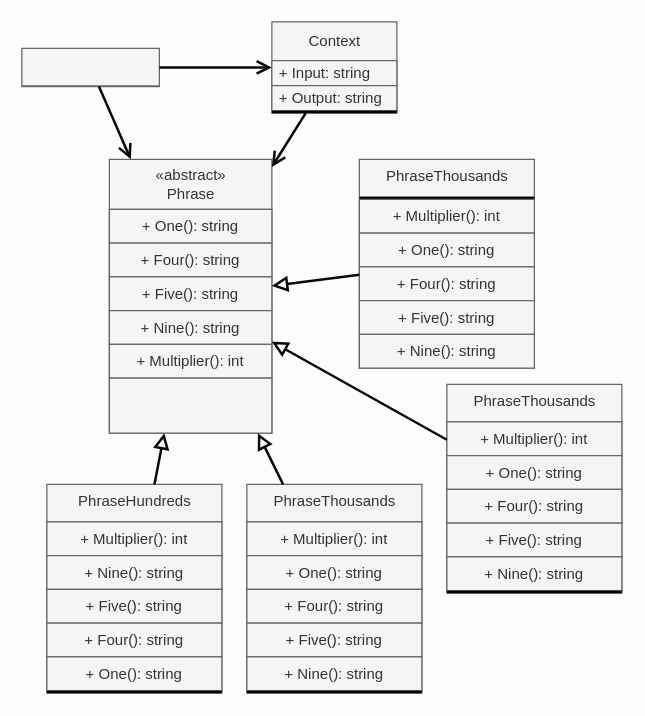
Some shapes in this 645 by 716 pixel diagram are drawn without their labels. The centre of each missing label's shape, as x and y in pixels:
"+ Interpreter(context: Context): void" goes at [190,405].
"Program" goes at [90,66].
